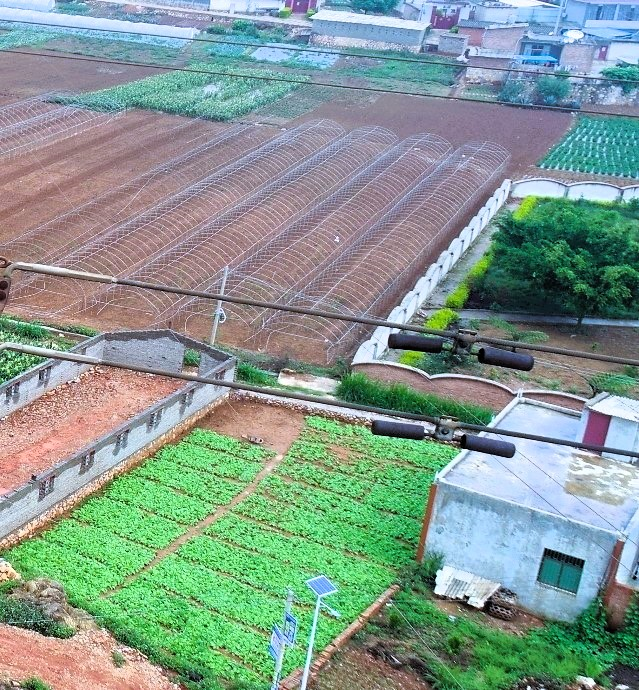Shockproof hammer: (382, 312, 541, 378), (367, 398, 520, 465)
